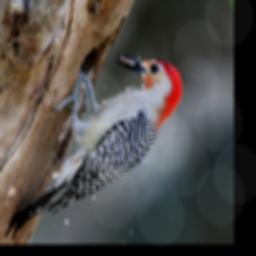Woodpecker: (7, 55, 182, 236)
